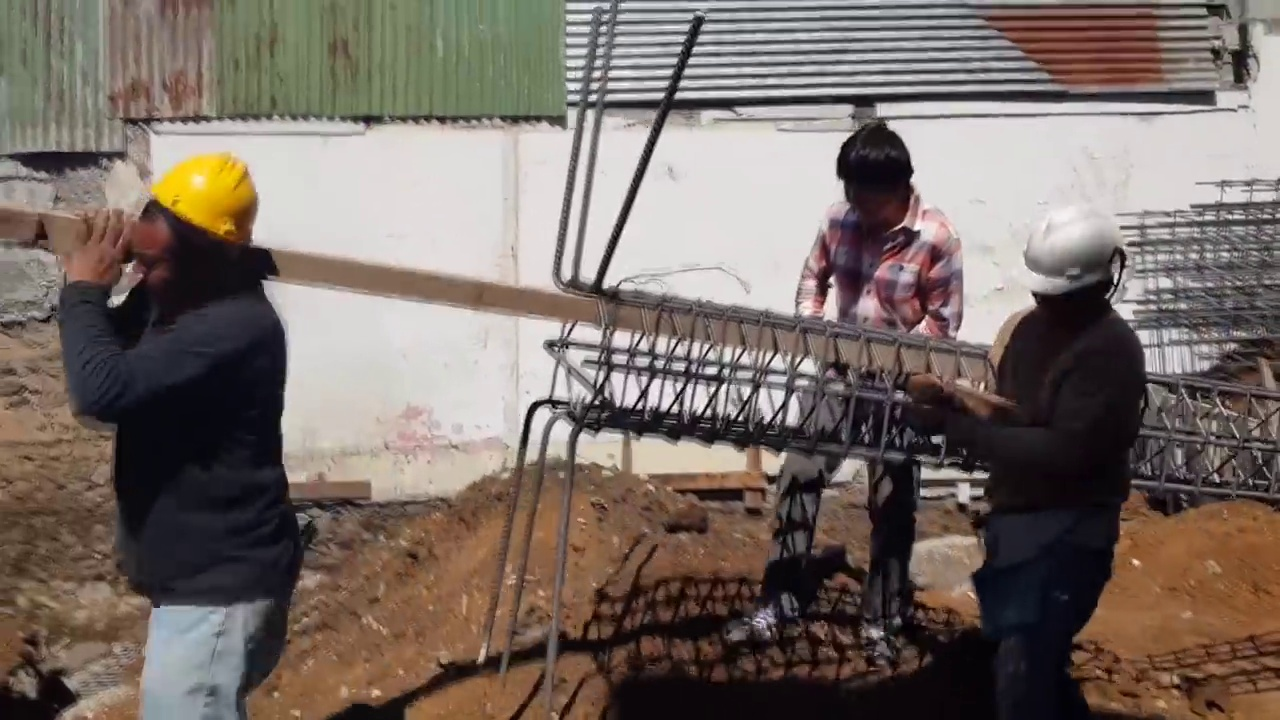helmet: (1006, 208, 1136, 305), (141, 152, 260, 254)
helmet-off: (832, 113, 925, 234)
helmet-on: (120, 147, 261, 314), (1008, 205, 1146, 352)
person: (53, 113, 300, 720), (728, 117, 963, 675), (917, 205, 1145, 719)
